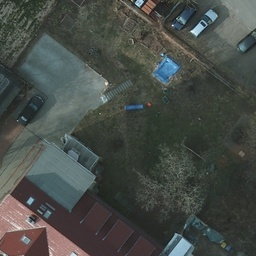car: (18, 94, 42, 126), (192, 10, 215, 37), (172, 5, 194, 29), (237, 28, 255, 53)
